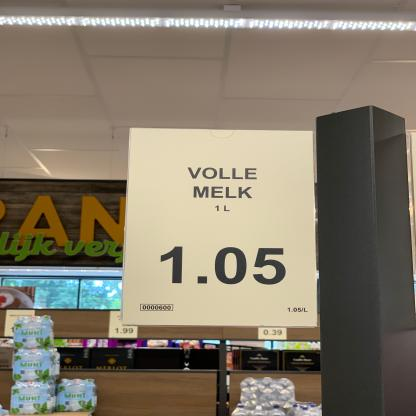prtg: (123, 127, 320, 328)
